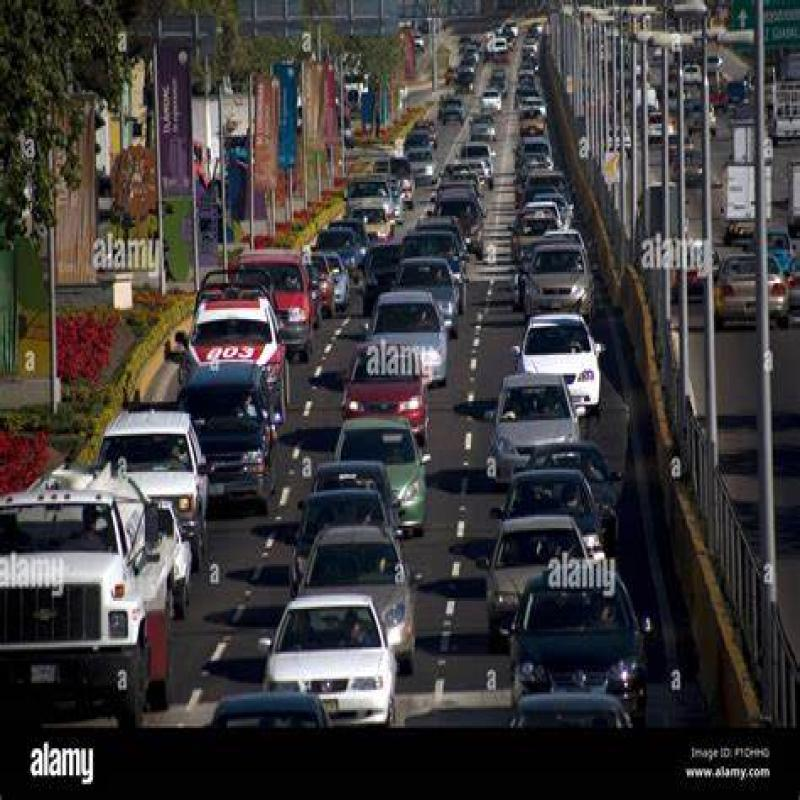car: (0, 490, 153, 726), (518, 567, 656, 754), (107, 394, 224, 534), (269, 600, 395, 728), (310, 519, 422, 652), (196, 353, 292, 506), (290, 472, 393, 581), (238, 244, 344, 349), (508, 467, 610, 566), (492, 526, 596, 622), (377, 282, 464, 393), (334, 412, 432, 510), (497, 379, 580, 487), (525, 313, 610, 404), (204, 294, 275, 371), (524, 241, 589, 322), (347, 353, 422, 422), (411, 218, 465, 300), (393, 263, 458, 322)
